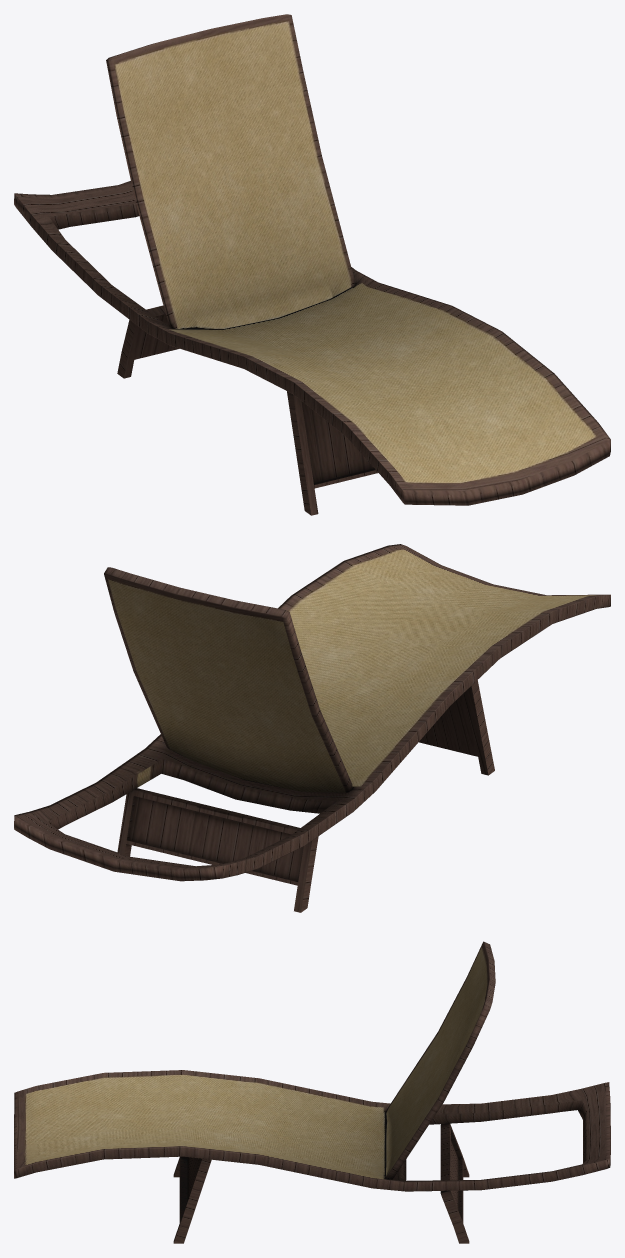
Rendered from Amabel Chaise Lounger.fbx.
3 views of the same model, one above another, from view 1: azimuth 30°, elevation 25°; view 2: azimuth 150°, elevation 25°; view 3: azimuth 270°, elevation 25° (orthographic). The views are drawn at different scales.
Parts seen in each view (by area): view 1: Amabel Chaise Lounger; view 2: Amabel Chaise Lounger; view 3: Amabel Chaise Lounger.
Part boxes in pixels (x1,y1,x2,y2): Amabel Chaise Lounger: [14, 14, 610, 515]; Amabel Chaise Lounger: [14, 544, 610, 912]; Amabel Chaise Lounger: [14, 941, 610, 1243].
Size of the model in its own units: 0.8184 by 1.16 by 2.66.
1 material, 1 textured.
